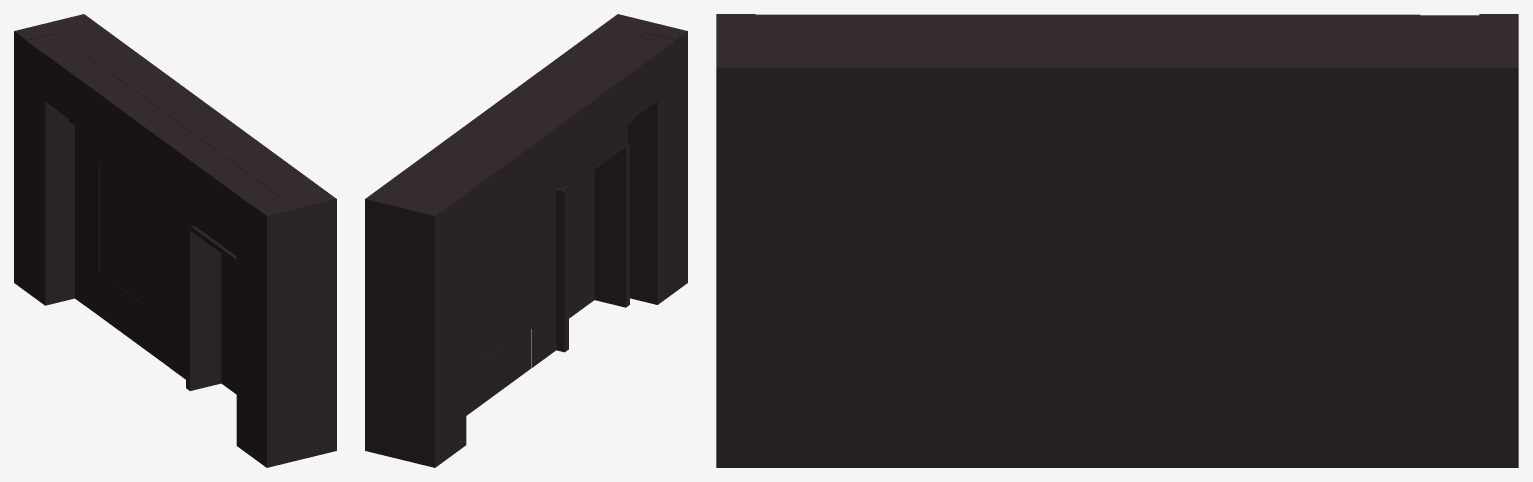
Rendered from customerwall.fbx.
3 views of the same model, side by side, from view 1: azimuth 30°, elevation 25°; view 2: azimuth 150°, elevation 25°; view 3: azimuth 270°, elevation 25° (orthographic). The views are drawn at different scales.
Visible parts, largest first — view 1: customerwall.001; view 2: customerwall.001; view 3: customerwall.001.
Part boxes in pixels (x1,y1,x2,y2): customerwall.001: (14,14,336,467); customerwall.001: (365,14,687,467); customerwall.001: (716,14,1518,467).
Bounding box in the file's own units: 739 × 2539 × 4619.
